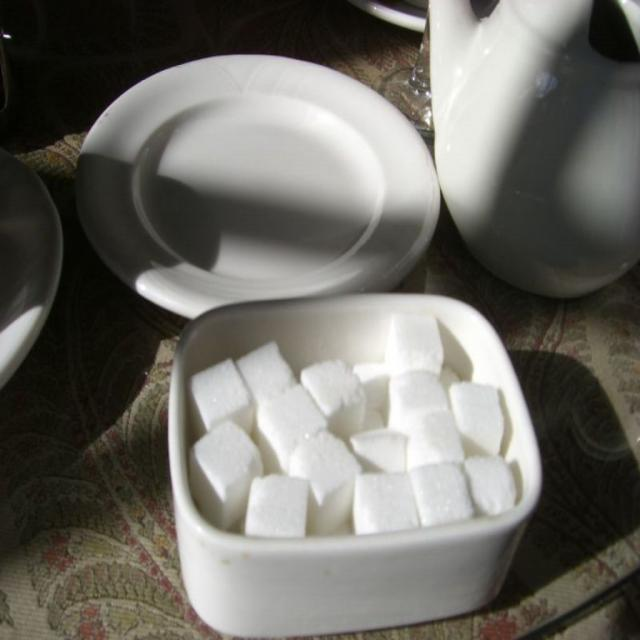ceramic plate: (90, 59, 432, 328)
